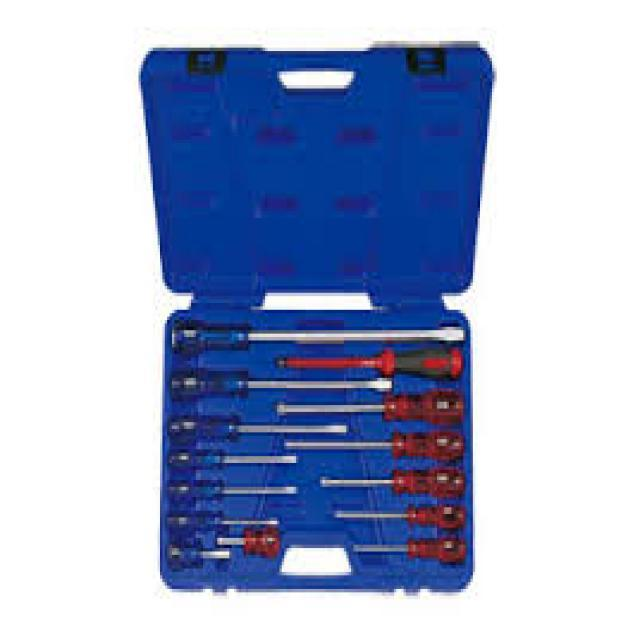screwdriver: (168, 314, 470, 352), (276, 388, 470, 426), (274, 342, 464, 380), (170, 368, 396, 398), (164, 410, 348, 444), (284, 430, 468, 464), (318, 466, 468, 504), (163, 475, 304, 509), (330, 500, 470, 531), (349, 533, 476, 567), (164, 510, 284, 540), (164, 449, 304, 474), (164, 538, 237, 579), (216, 526, 283, 564)
